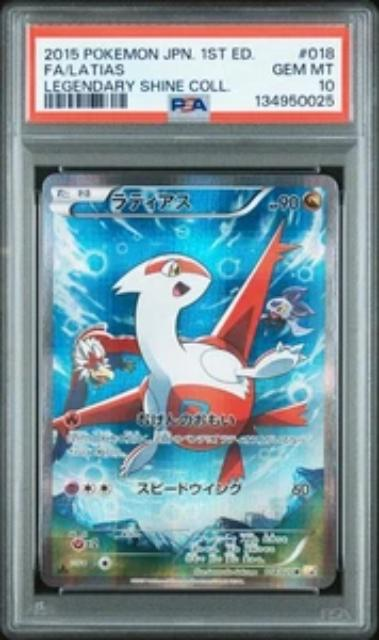Card: (36, 169, 343, 594)
Name: (108, 189, 197, 214)
